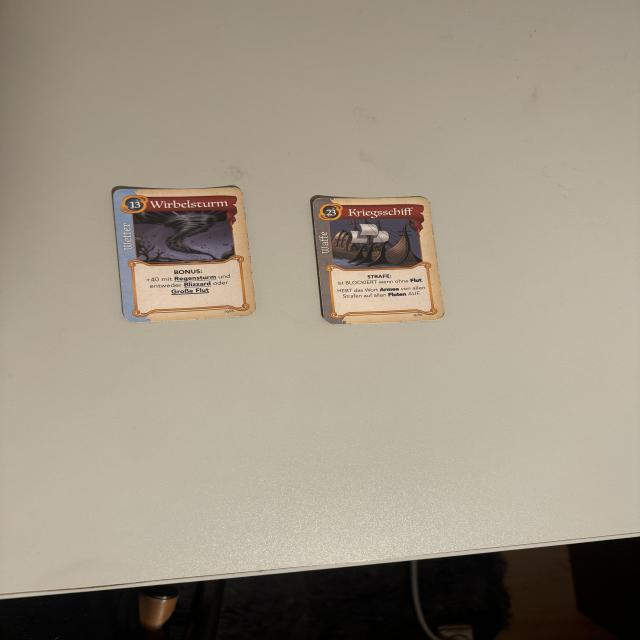Warship: (314, 195, 446, 326)
Whirlwind: (108, 185, 257, 330)
